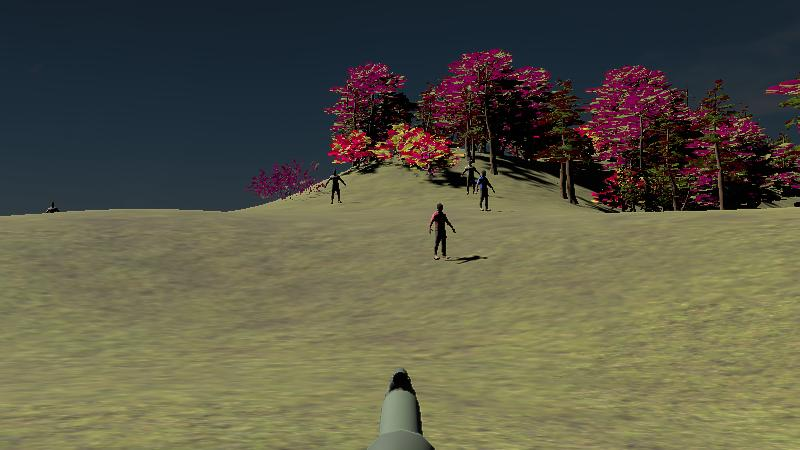Human: (429, 201, 455, 261)
